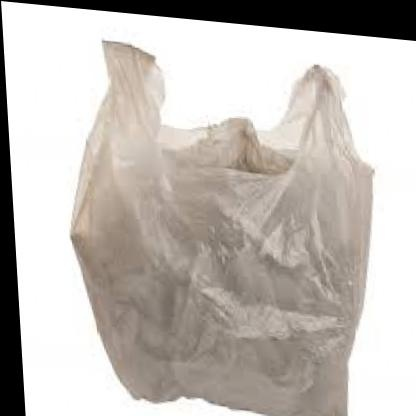trash: (71, 41, 372, 415)
